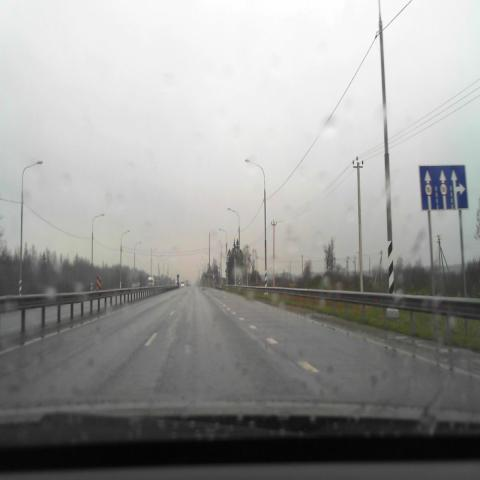5_15_1: (420, 166, 468, 211)
